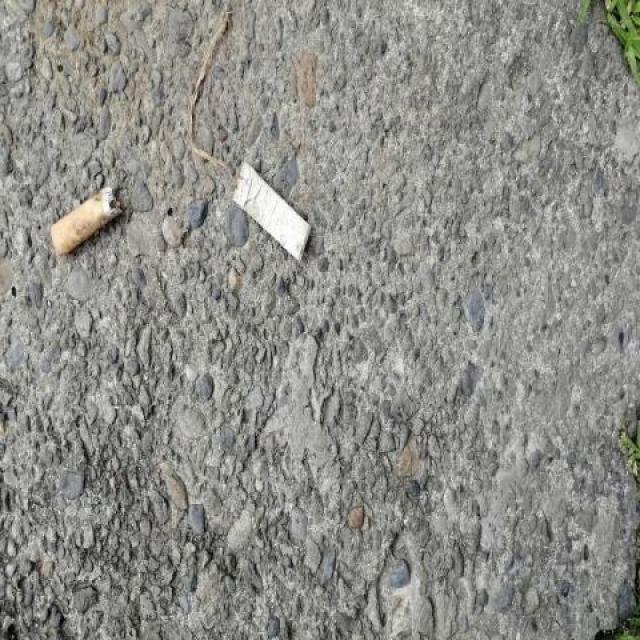non-organic waste: (228, 156, 316, 268), (48, 180, 125, 260)
